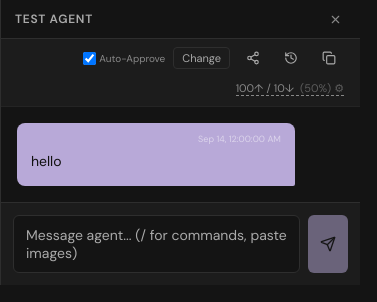
AgentPanel context-first token meter › keeps the one-liner when only hasCompacted is known
Click the text "100↑ / 10↓(50%) ⚙" at coordinates (290, 88), box [236,81,344,96]
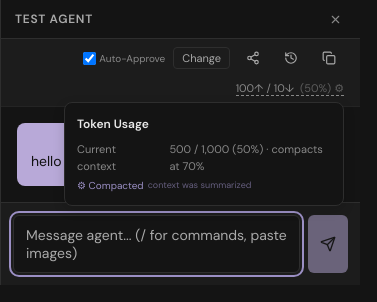
Check: the text "context was summarized" is shown, box [148,179,252,192]
